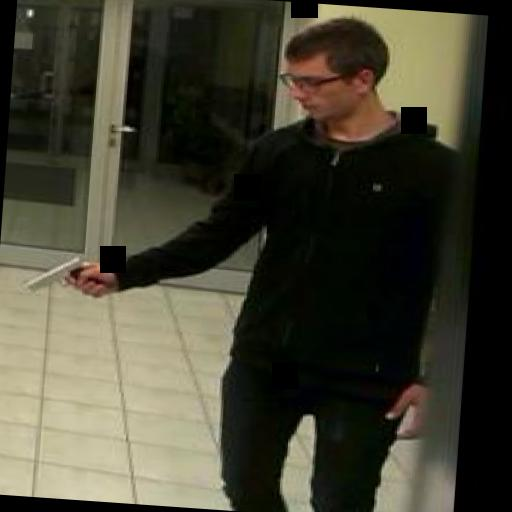Handgun: (20, 250, 100, 297)
